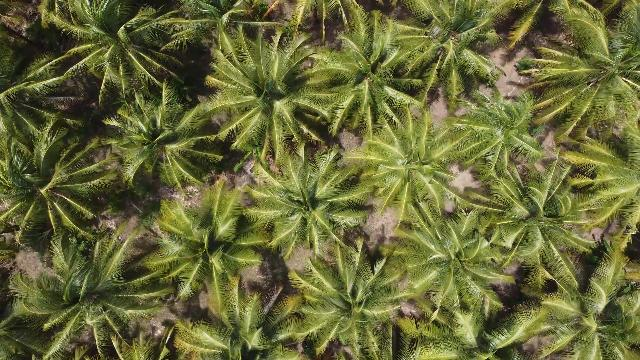trees: (454, 124, 630, 273), (7, 214, 182, 360), (201, 23, 342, 171), (511, 5, 639, 162), (287, 230, 421, 358), (42, 3, 200, 109), (305, 8, 433, 138), (394, 207, 518, 341), (353, 103, 478, 234), (245, 143, 376, 264), (144, 186, 269, 307), (98, 83, 224, 195), (4, 107, 125, 221), (448, 88, 551, 184), (158, 4, 275, 57), (3, 51, 88, 113), (284, 3, 364, 48), (2, 193, 47, 252)
